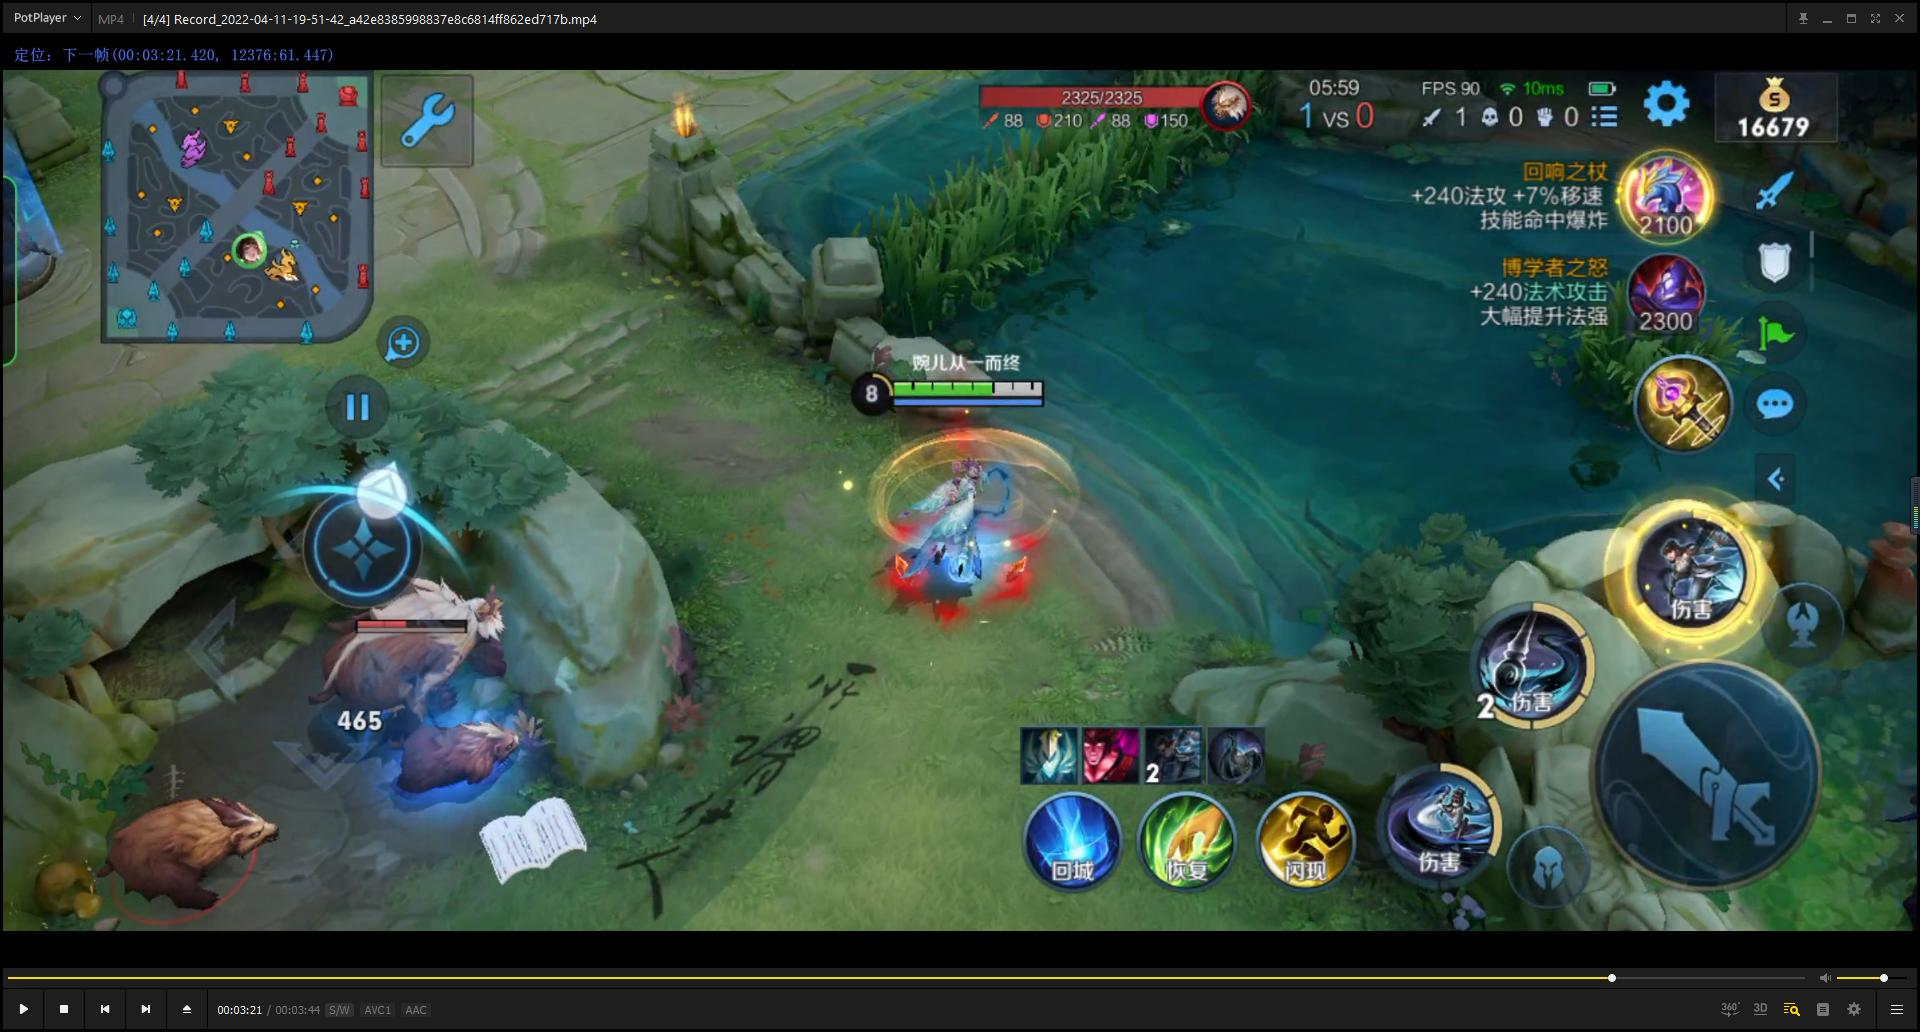Hero: (846, 440, 1083, 628)
Pig: (286, 548, 537, 736), (69, 766, 323, 932), (355, 680, 546, 807)
Tower: (1, 93, 91, 323)
